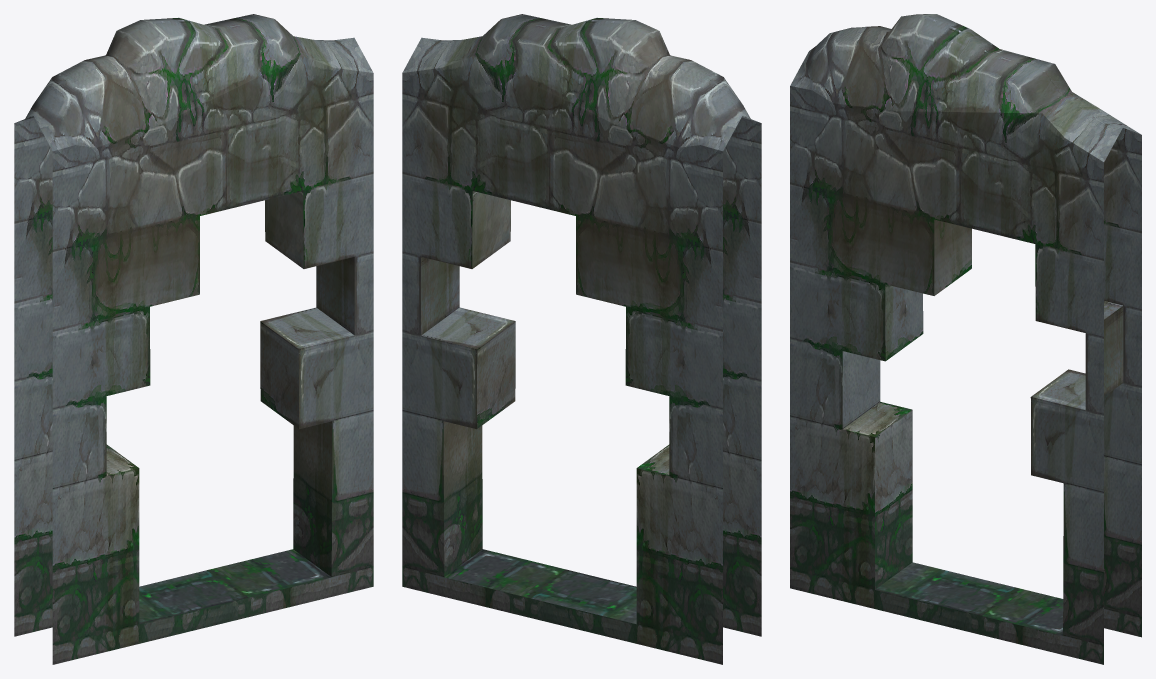
Rendered from stemple_secret_doorway_01.fbx.
The picture shows the model from 3 angles, left to right: view 1: azimuth 30°, elevation 25°; view 2: azimuth 150°, elevation 25°; view 3: azimuth 330°, elevation 25°; orthographic projection. The views are drawn at different scales.
Visible parts, largest first — view 1: stemple_secret_doorway_01-0; view 2: stemple_secret_doorway_01-0; view 3: stemple_secret_doorway_01-0.
Part boxes in pixels (left/top/right/bottom): stemple_secret_doorway_01-0: left=14, top=14, right=373, bottom=664; stemple_secret_doorway_01-0: left=402, top=14, right=761, bottom=664; stemple_secret_doorway_01-0: left=790, top=14, right=1141, bottom=664.
Bounding box in the file's own units: 4 × 7.15 × 0.8319.
